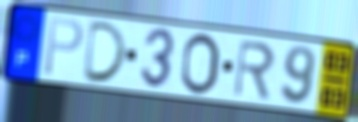3: (137, 25, 176, 92)
9: (278, 44, 317, 107)
D: (81, 19, 130, 85)
O: (178, 31, 221, 97)
P: (41, 16, 86, 79)
R: (232, 38, 277, 102)
